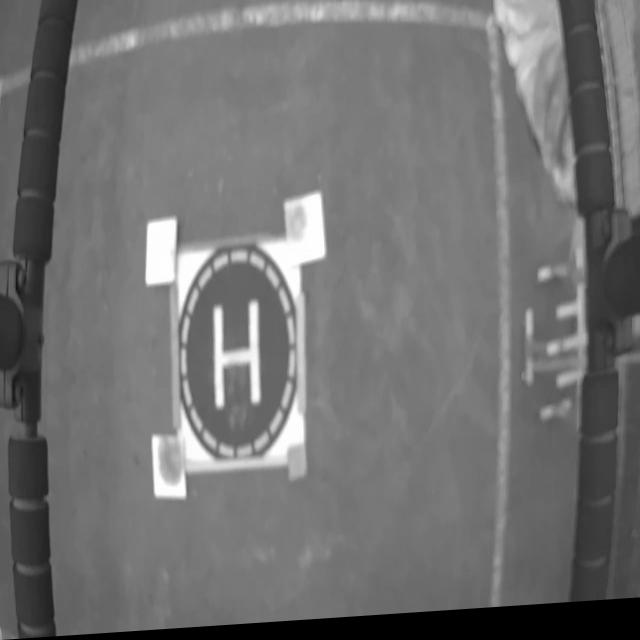Helipad: (213, 301, 262, 414)
